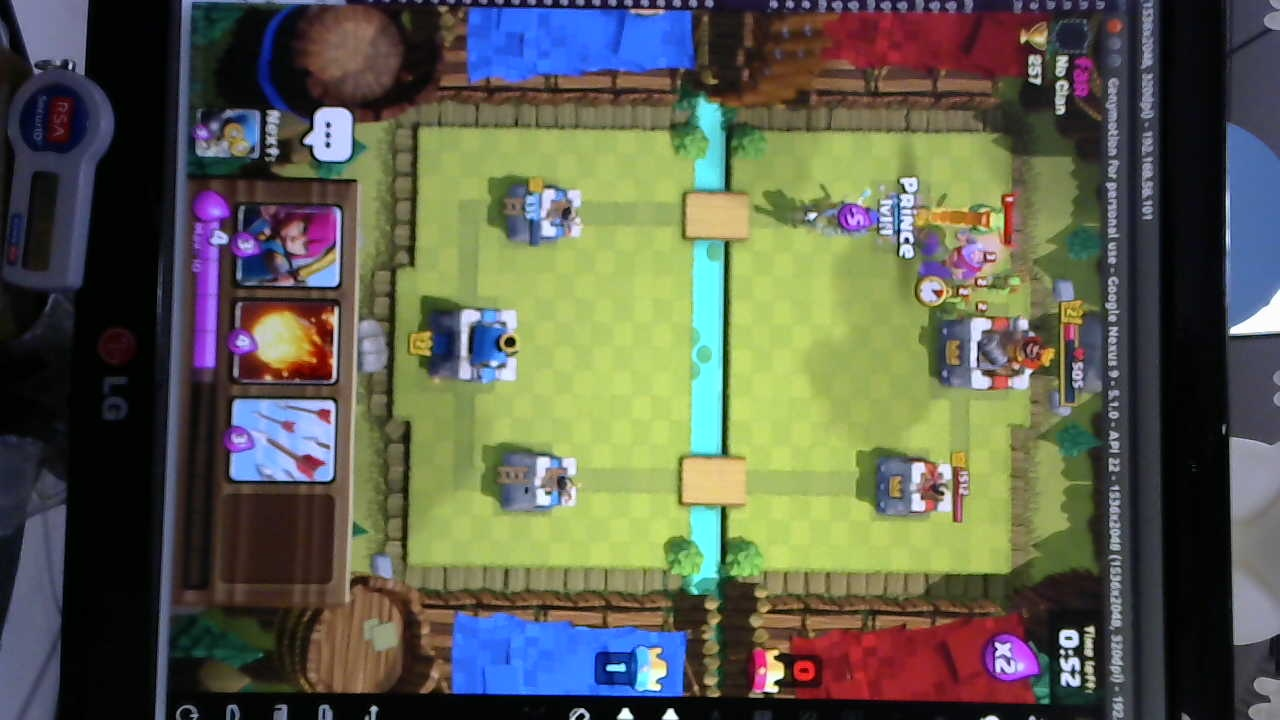arena: (496, 447, 584, 511), (502, 180, 585, 246)
dragon: (962, 196, 1006, 237)
earena: (880, 457, 954, 519)
eking: (935, 310, 1042, 394)
king: (435, 305, 524, 389)
knight: (946, 234, 992, 282)
speargoblins: (932, 267, 1031, 311)
witch: (820, 204, 893, 236)
